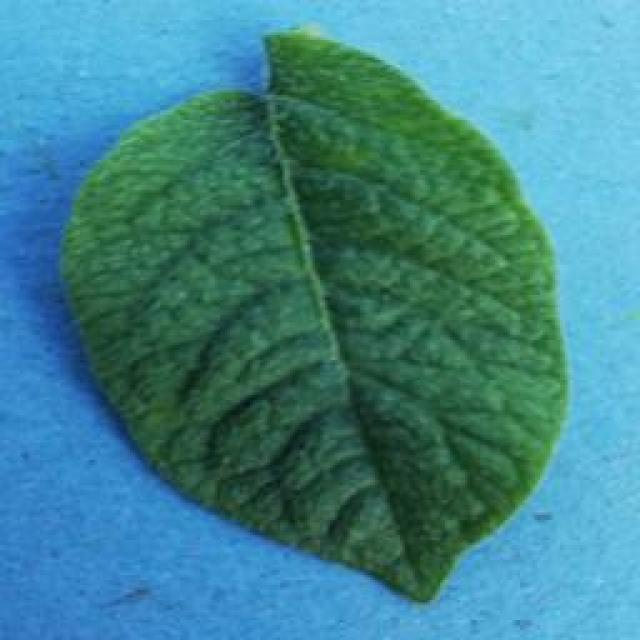Potato_Healthy: (62, 25, 567, 603)
